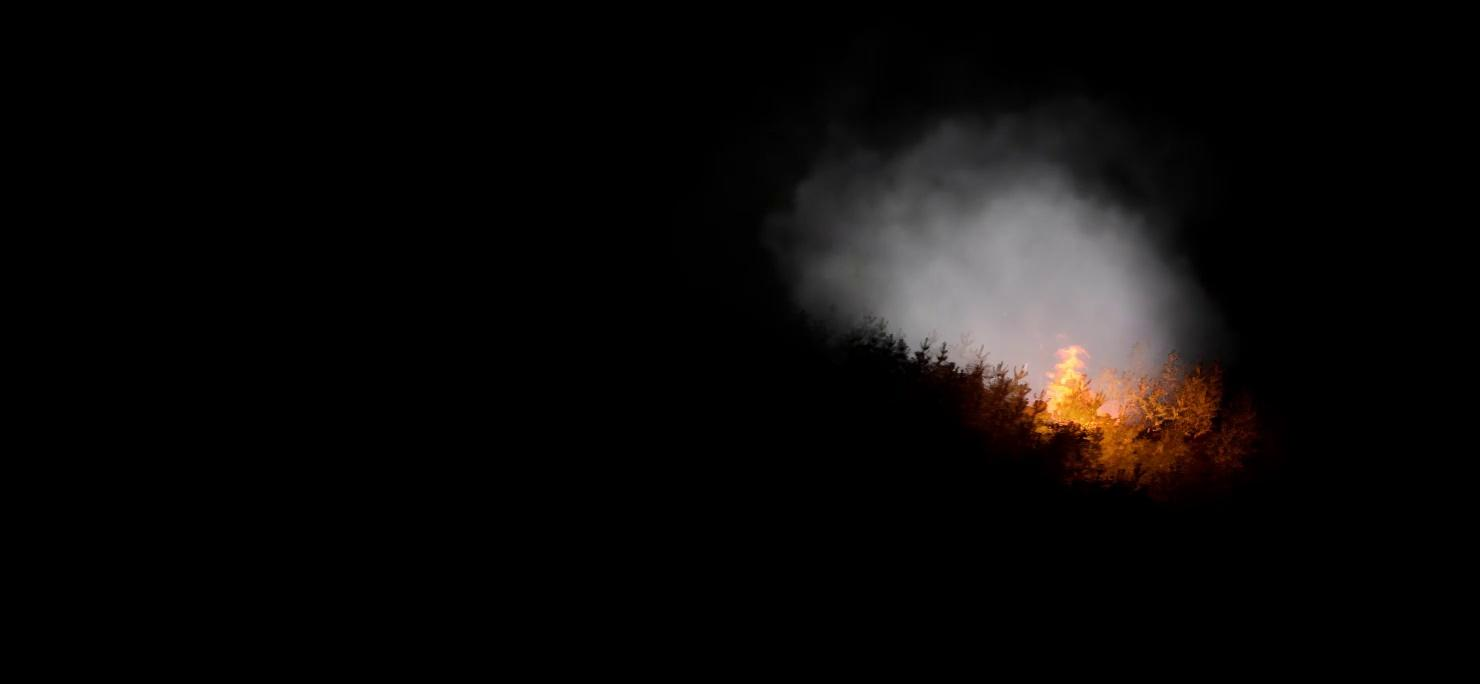fire: (1037, 338, 1131, 420)
smoke: (777, 89, 1215, 421)
